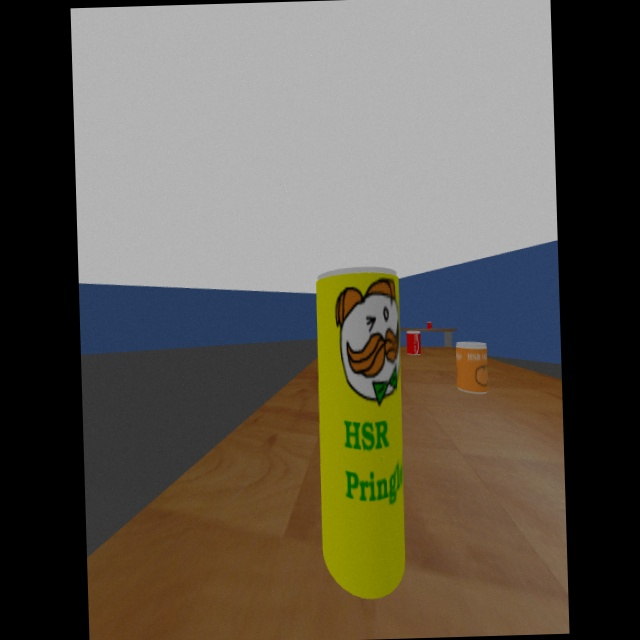chipsdose_gelb: (316, 266, 406, 600)
